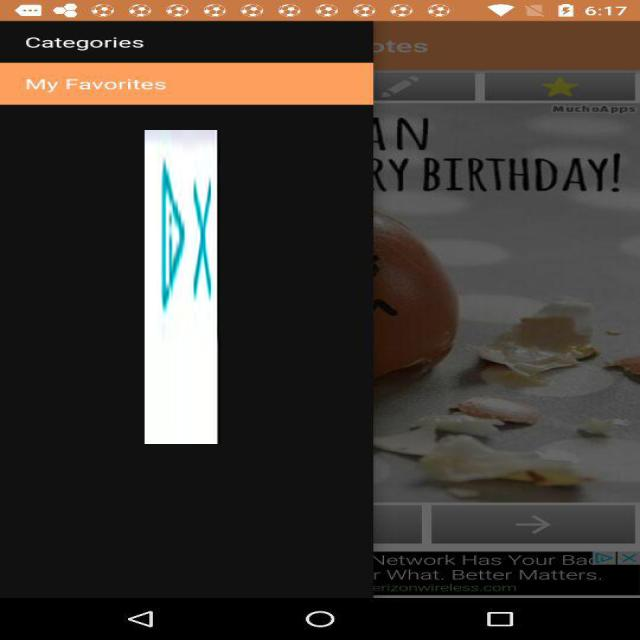sneaking: (144, 130, 220, 444)
